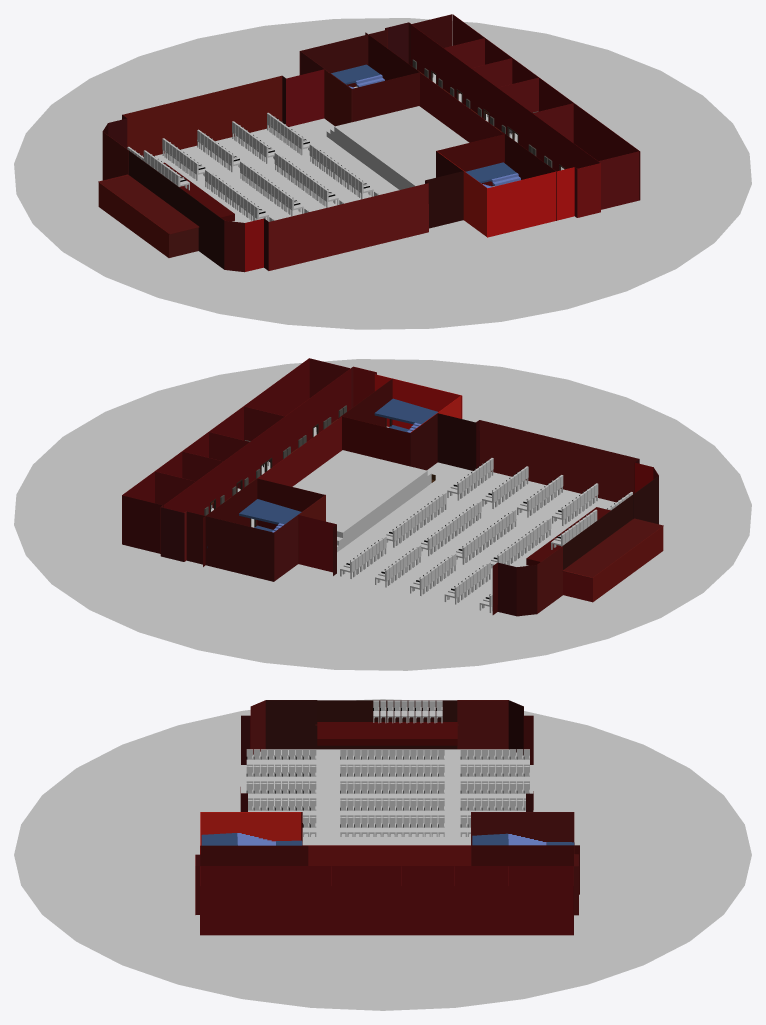
File: insidemarquis.obj
3 views of the same model, one above another, from view 1: azimuth 30°, elevation 25°; view 2: azimuth 150°, elevation 25°; view 3: azimuth 270°, elevation 25° (orthographic).
Parts seen in each view (by area): view 1: Cube.047_Cube.071, Cube.008, Cube.036_Cube.188, Cube.046_Cube.074, Cube.042_Cube.067, Cube.007_Cube.079, Cube.018_Cube.089, Cube.043_Cube.068, Cube.004_Cube.076, Cube.019_Cube.090, Cube.011_Cube.082, Cube.012_Cube.083 (+15 smaller); view 2: Cube.047_Cube.071, Cube.008, Cube.036_Cube.188, Cube.046_Cube.074, Cube.042_Cube.067, Cube.012_Cube.083, Cube.018_Cube.089, Cube.043_Cube.068, Cube.041_Cube.066, Cube.004_Cube.076, Cube.006_Cube.078, Cube.017_Cube.088 (+17 smaller); view 3: Cube.047_Cube.071, Cube.018_Cube.089, Cube.008, Cube.042_Cube.067, Cube.036_Cube.188, Cube.041_Cube.066, Cube.043_Cube.068, Cube.004_Cube.076, Cube.003, Cube.013_Cube.084, Cube.001, Cube.068_Cube.176 (+2 smaller).
Boxes of the visible parts, box(x1,y1,x2,y2) form: Cube.047_Cube.071: box(14, 18, 751, 329); Cube.008: box(102, 69, 463, 272); Cube.036_Cube.188: box(411, 24, 597, 171); Cube.046_Cube.074: box(98, 174, 199, 257); Cube.042_Cube.067: box(205, 144, 373, 221); Cube.007_Cube.079: box(487, 167, 574, 237); Cube.018_Cube.089: box(452, 14, 640, 200); Cube.043_Cube.068: box(127, 112, 310, 180); Cube.004_Cube.076: box(420, 72, 504, 162); Cube.019_Cube.090: box(352, 72, 419, 121); Cube.011_Cube.082: box(598, 151, 639, 209); Cube.012_Cube.083: box(299, 30, 387, 87); Cube.047_Cube.071: box(14, 359, 751, 670); Cube.008: box(298, 413, 658, 616); Cube.036_Cube.188: box(163, 368, 351, 515); Cube.046_Cube.074: box(562, 518, 663, 602); Cube.042_Cube.067: box(385, 492, 551, 568); Cube.012_Cube.083: box(186, 511, 274, 581); Cube.018_Cube.089: box(122, 358, 309, 543); Cube.043_Cube.068: box(340, 536, 492, 612); Cube.041_Cube.066: box(447, 458, 632, 525); Cube.004_Cube.076: box(258, 416, 341, 486); Cube.006_Cube.078: box(342, 416, 410, 466); Cube.017_Cube.088: box(122, 495, 162, 553); Cube.047_Cube.071: box(14, 699, 751, 1010); Cube.018_Cube.089: box(200, 886, 573, 935); Cube.008: box(240, 700, 533, 811); Cube.042_Cube.067: box(340, 749, 444, 836); Cube.036_Cube.188: box(200, 866, 573, 886); Cube.041_Cube.066: box(246, 749, 316, 836); Cube.043_Cube.068: box(460, 749, 529, 836); Cube.004_Cube.076: box(303, 845, 471, 865); Cube.003: box(317, 722, 457, 745); Cube.013_Cube.084: box(471, 812, 573, 845); Cube.001: box(200, 812, 301, 845); Cube.068_Cube.176: box(200, 845, 308, 865).
Bounding box in the file's own units: 600 × 48.23 × 600.
